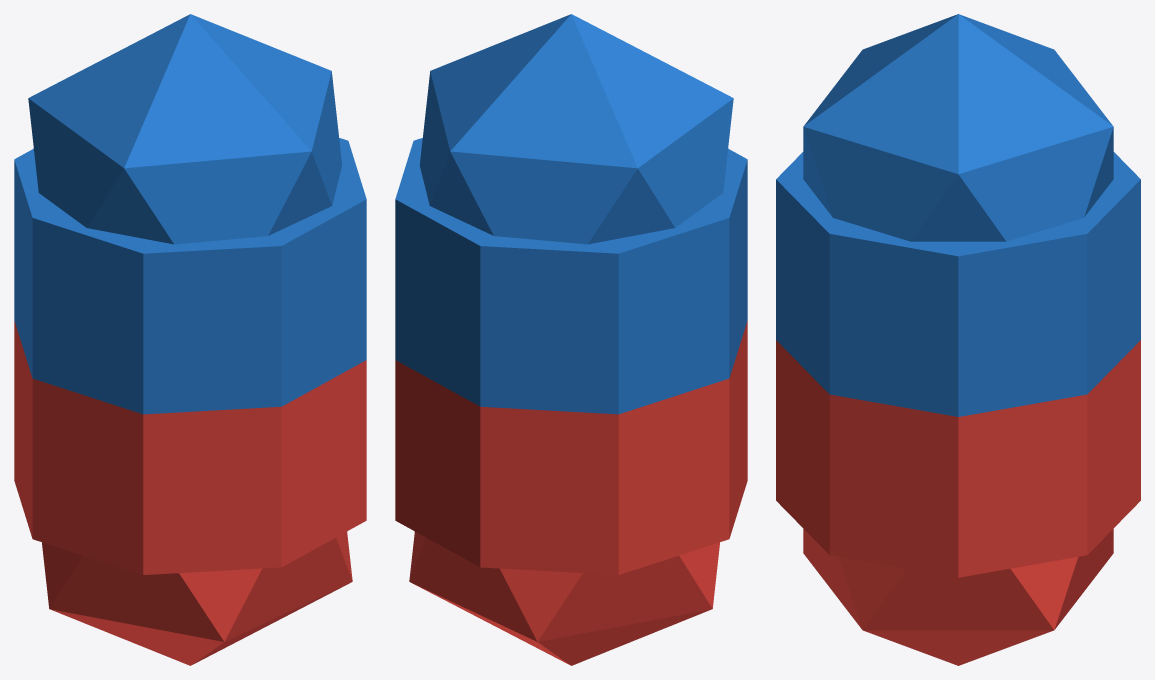
The model's file is capsule_duo.glb.
3 renders of one model, left to right at view 1: azimuth 30°, elevation 25°; view 2: azimuth 150°, elevation 25°; view 3: azimuth 270°, elevation 25°, orthographic.
Visible parts, largest first — view 1: capsule_duo; view 2: capsule_duo; view 3: capsule_duo.
Boxes of the visible parts, x1,y1,x2,y2 form: capsule_duo: [14, 14, 366, 665]; capsule_duo: [395, 14, 747, 665]; capsule_duo: [776, 14, 1140, 665].
Size of the model in its own units: 0.072 by 0.142 by 0.072.
